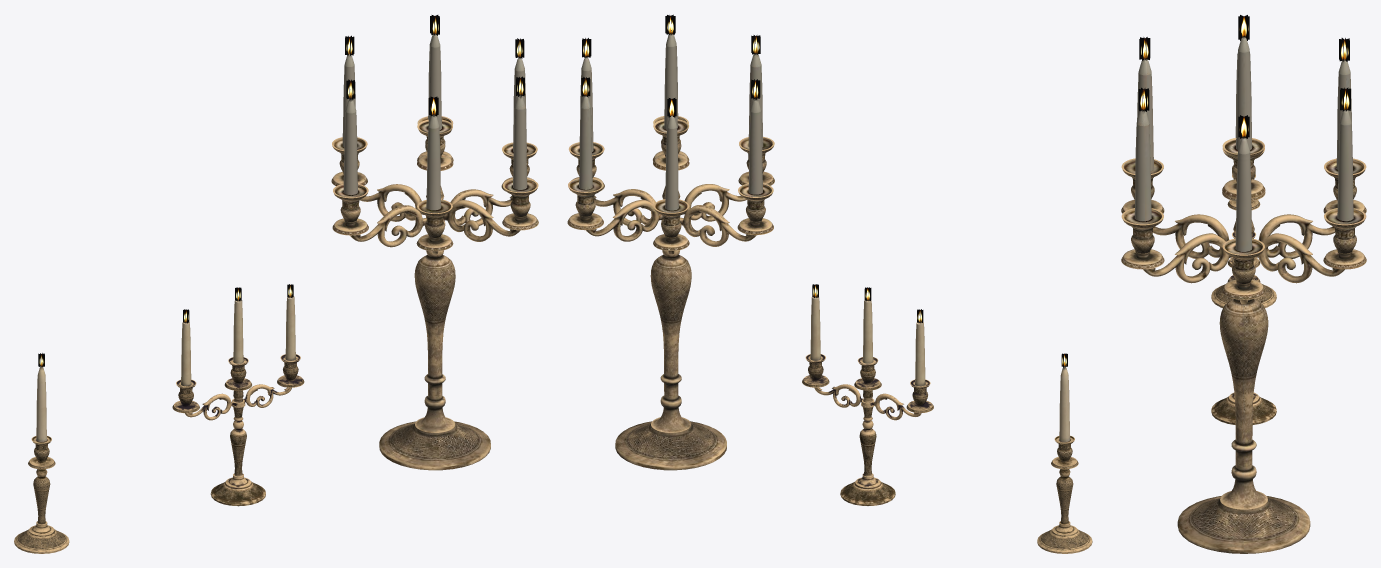
Rendered from brass_candleholders.glb.
The picture shows the model from 3 angles, left to right: view 1: azimuth 30°, elevation 25°; view 2: azimuth 150°, elevation 25°; view 3: azimuth 270°, elevation 25°; orthographic projection. The views are drawn at different scales.
Parts seen in each view (by area): view 1: brass_candleholder_03, brass_candleholder_02, brass_candleholder_01; view 2: brass_candleholder_03, brass_candleholder_02, brass_candleholder_01; view 3: brass_candleholder_03, brass_candleholder_02, brass_candleholder_01.
Part boxes in pixels (x1,y1,x2,y2): brass_candleholder_03: [331, 15, 538, 470]; brass_candleholder_02: [172, 284, 304, 506]; brass_candleholder_01: [14, 353, 69, 553]; brass_candleholder_03: [567, 14, 774, 470]; brass_candleholder_02: [802, 284, 933, 505]; brass_candleholder_01: [1037, 353, 1092, 553]; brass_candleholder_03: [1121, 15, 1366, 553]; brass_candleholder_02: [1211, 232, 1276, 424]; brass_candleholder_01: [1211, 174, 1276, 307].
Bounding box in the file's own units: 1.05 × 0.8353 × 0.3647.
Materials: 5 (5 with a texture image).
